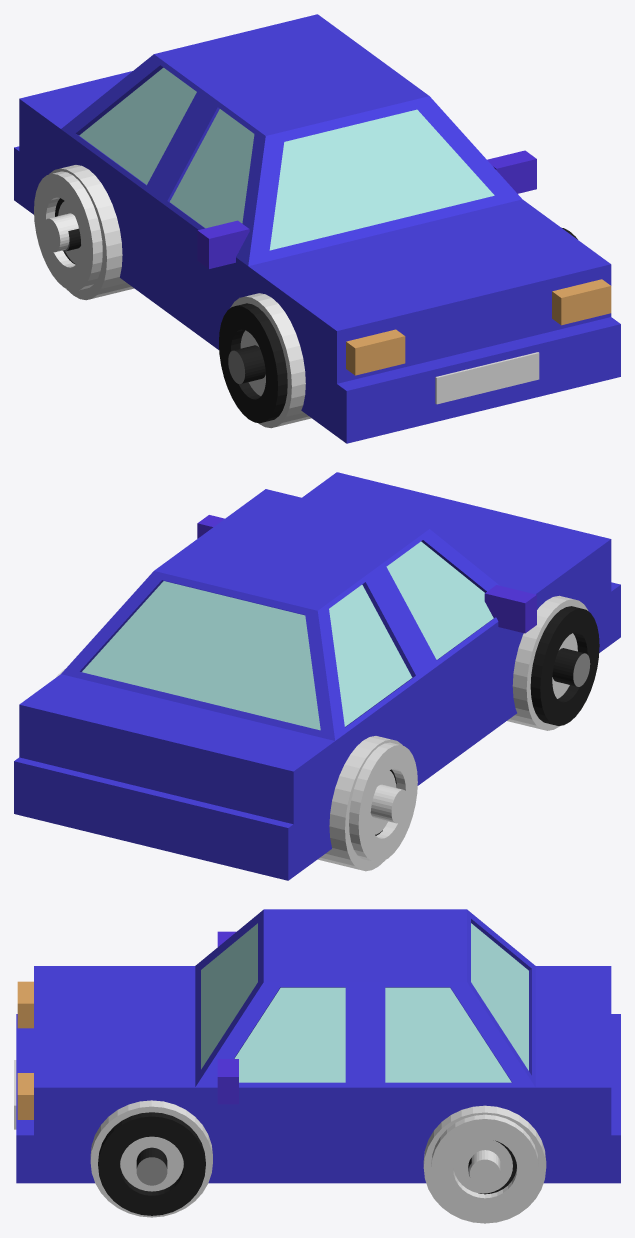
The model's file is purplecar2.gltf.
3 renders of one model, top to bottom at view 1: azimuth 30°, elevation 25°; view 2: azimuth 150°, elevation 25°; view 3: azimuth 270°, elevation 25°, orthographic. The views are drawn at different scales.
Visible parts, largest first — view 1: Cube, Cylinder, Cylinder.002, Cube.001, Cylinder.003, Cylinder.001, Cube.002, Cube.003; view 2: Cube, Cylinder.002, Cylinder, Cylinder.003, Cylinder.001, Cube.002; view 3: Cube, Cylinder, Cylinder.002, Cylinder.001, Cylinder.003, Cube.001, Cube.002.
Part boxes in pixels (x1,y1,x2,y2): Cube: [14, 14, 620, 443]; Cylinder: [219, 227, 577, 423]; Cylinder.002: [34, 171, 102, 291]; Cube.001: [346, 279, 611, 375]; Cylinder.003: [49, 165, 134, 300]; Cylinder.001: [230, 293, 311, 428]; Cube.002: [197, 150, 536, 268]; Cube.003: [435, 352, 539, 404]; Cube: [14, 472, 620, 880]; Cylinder.002: [56, 669, 417, 862]; Cylinder: [530, 606, 599, 725]; Cylinder.003: [318, 736, 402, 871]; Cylinder.001: [507, 595, 588, 730]; Cube.002: [197, 515, 536, 633]; Cube: [16, 909, 620, 1183]; Cylinder: [98, 1112, 205, 1215]; Cylinder.002: [431, 1114, 538, 1218]; Cylinder.001: [90, 1100, 212, 1217]; Cylinder.003: [423, 1105, 546, 1223]; Cube.001: [17, 981, 33, 1119]; Cube.002: [217, 931, 238, 1104].
Size of the model in its own units: 3.09 by 1.96 by 5.14.
